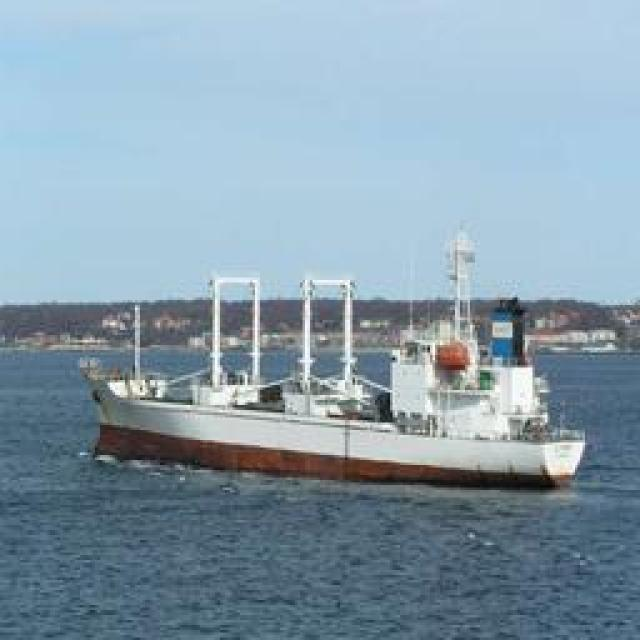CIV_Ship: (85, 327, 605, 495)
